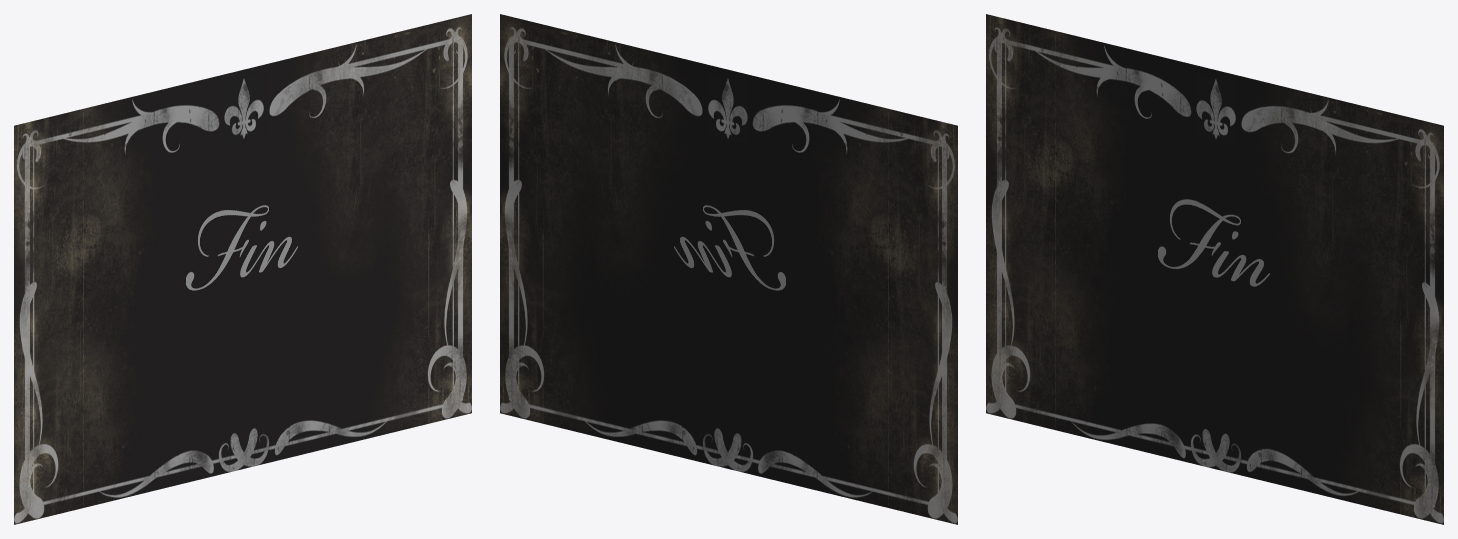
File: gameclear.FBX
3 renders of one model, left to right at view 1: azimuth 30°, elevation 25°; view 2: azimuth 150°, elevation 25°; view 3: azimuth 330°, elevation 25°, orthographic.
Parts seen in each view (by area): view 1: Plane001; view 2: Plane001; view 3: Plane001.
Boxes of the visible parts, <box> form: Plane001: <box>14,14,471,524</box>; Plane001: <box>500,14,957,524</box>; Plane001: <box>986,14,1443,524</box>.
Bounding box in the file's own units: 6 × 5 × 3.77e-07.
1 material, 1 textured.
